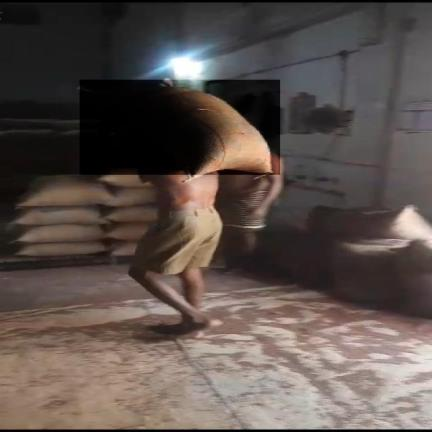Zone-Counting: (80, 80, 272, 332)
